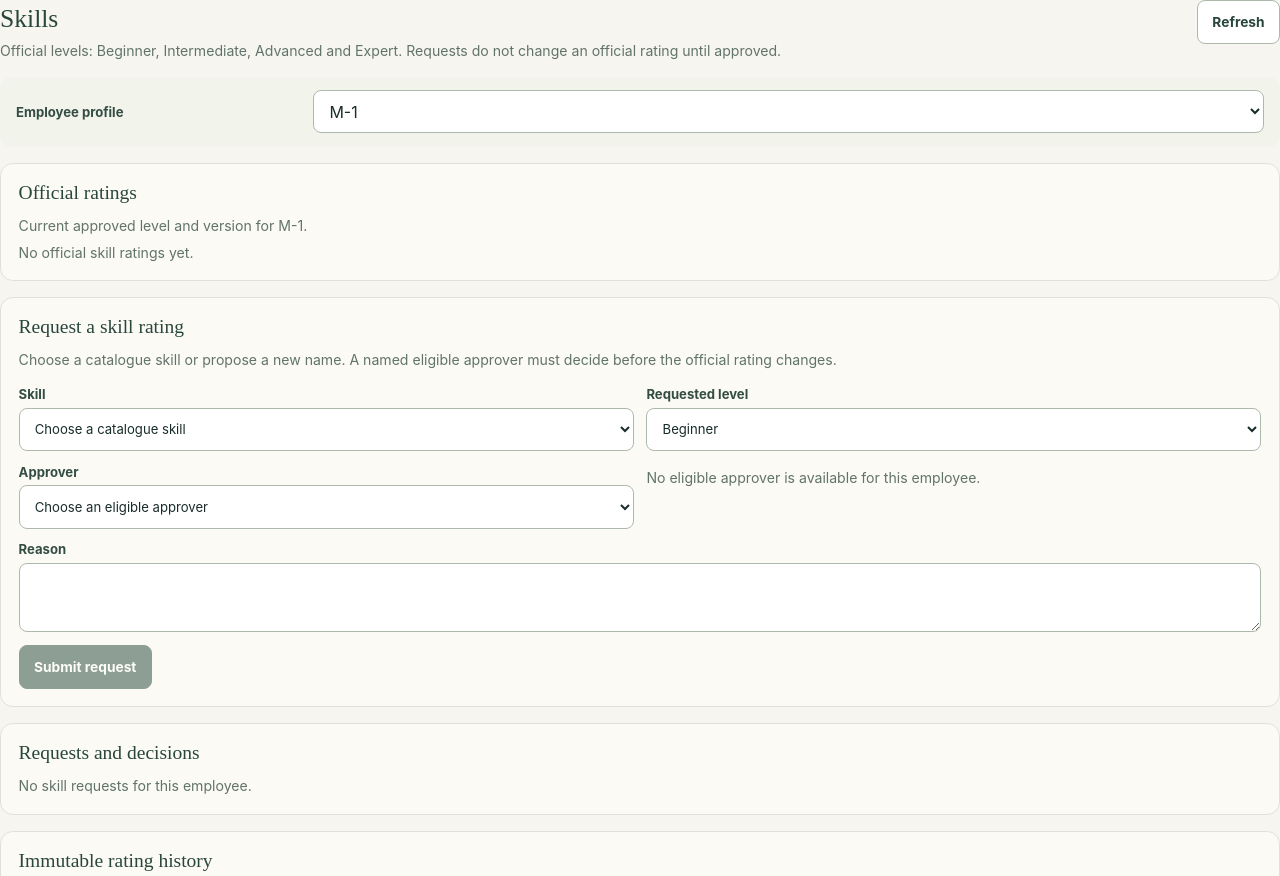
it: SkillsWorkspace › shows decision controls only for canDecide and refreshes the persisted outcome and immutable evidence
Expected: the text "No official skill ratings yet." is shown, [19,244,194,261]
Select "E-1" in the dropdown labelled "Employee profile" at (789, 112), box [313,90,1264,134]
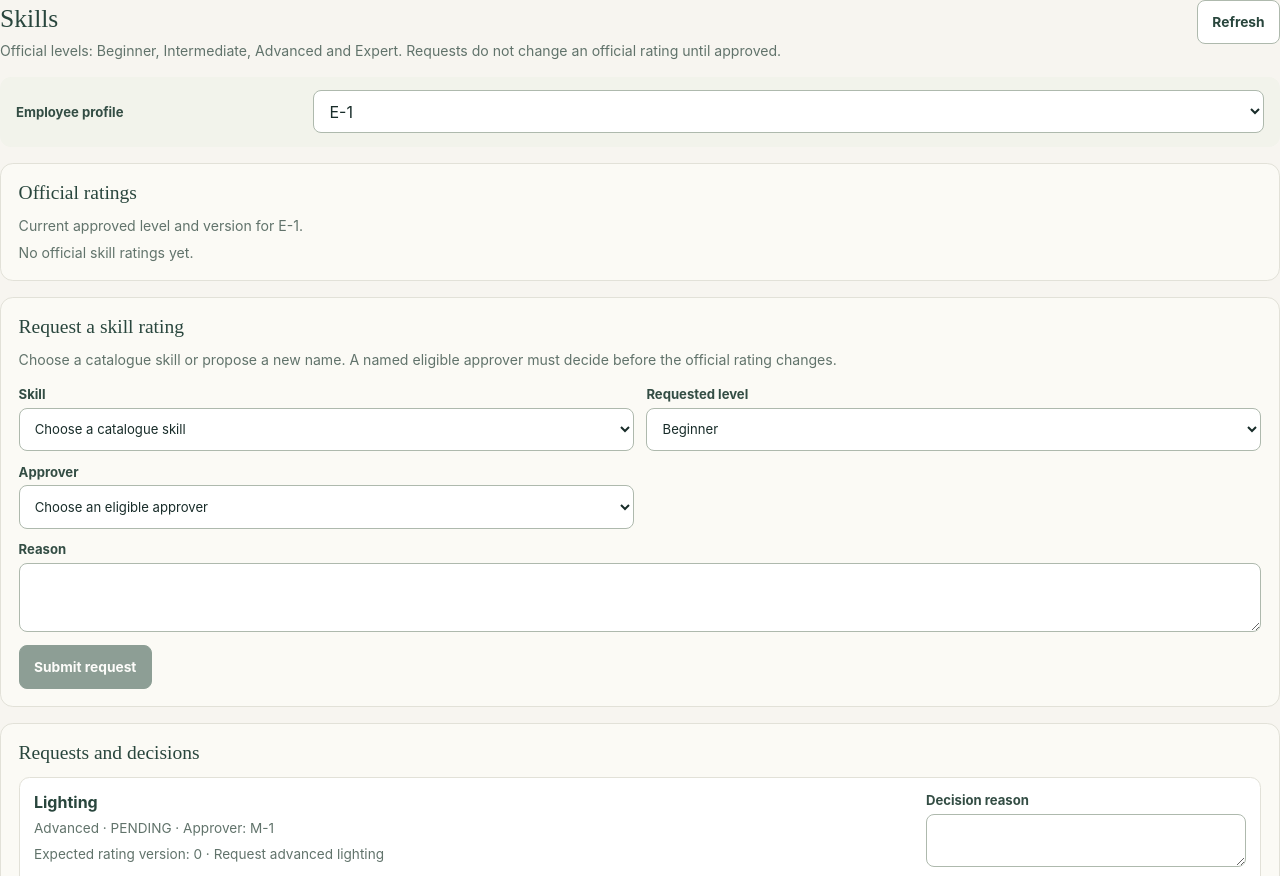
Expected: the text "Advanced · PENDING · Approver: M-1" is shown, [34,820,274,836]
Type "Evidence reviewed" into the text box named "Decision reason for Lighting" at (1086, 840), box [926,814,1246,867]
(page scrolled)
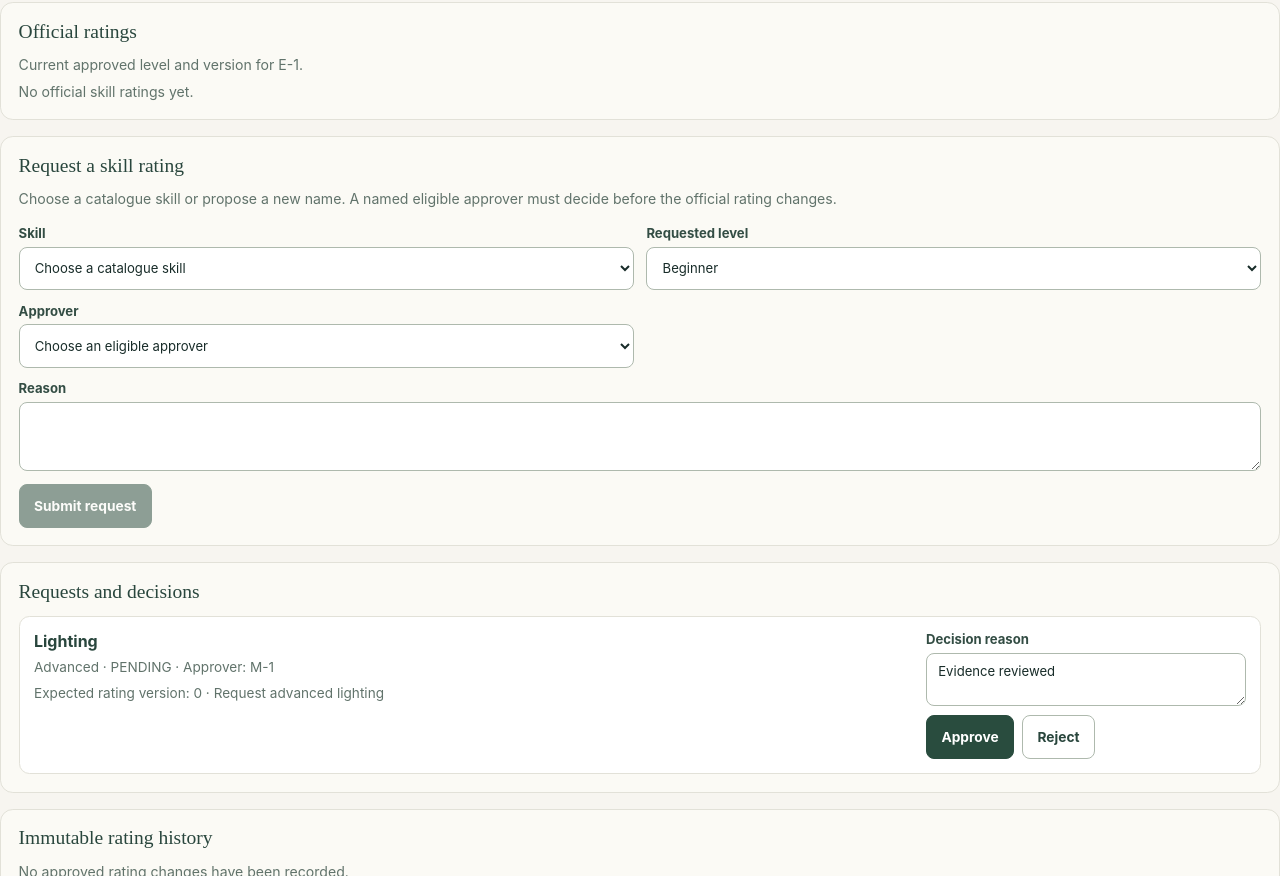
Click the button "Approve" at (970, 737), box [926,715,1014,759]
(page scrolled)
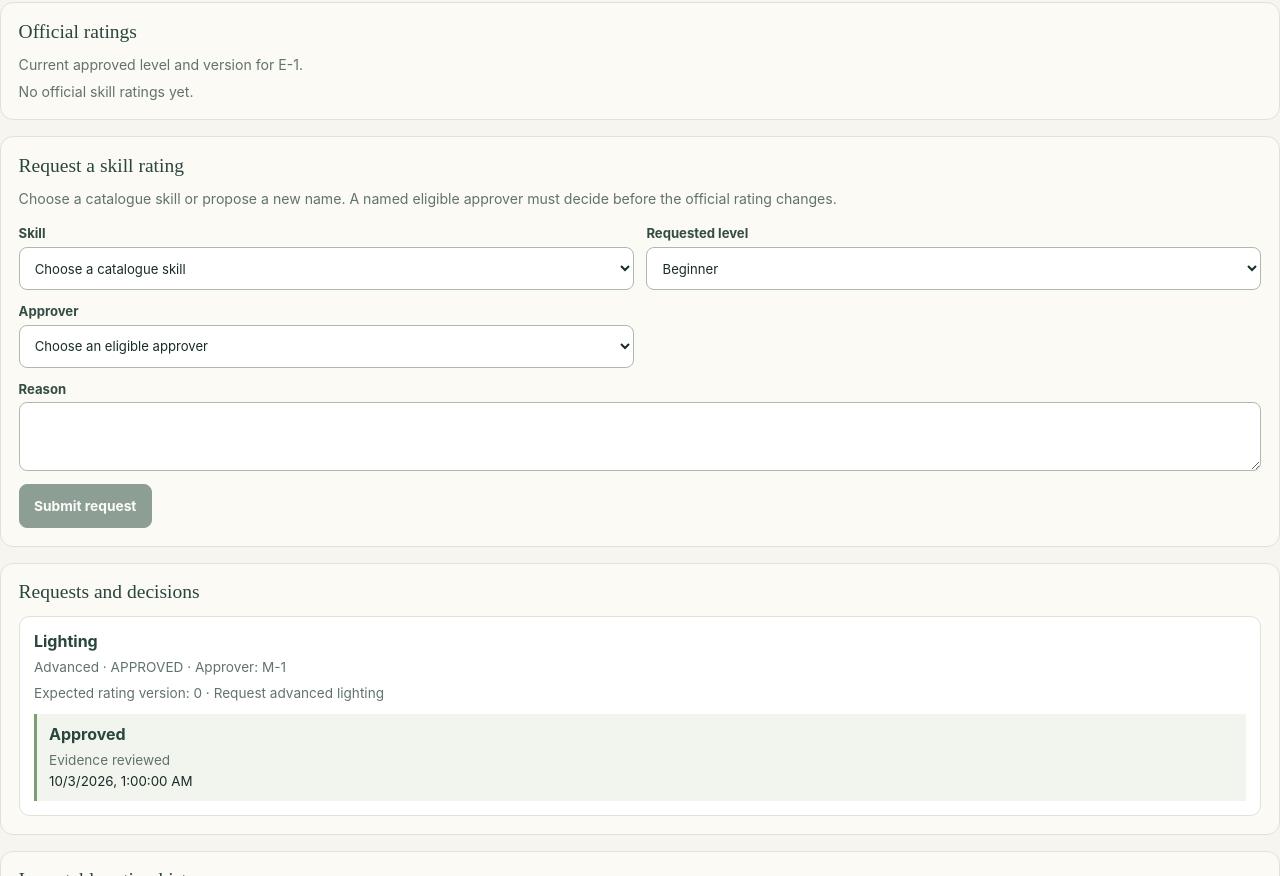
Expected: the text "Advanced · APPROVED · Approver: M-1" is shown, [34,659,286,675]
Expected: the text "Evidence reviewed" is shown, [49,752,170,768]
